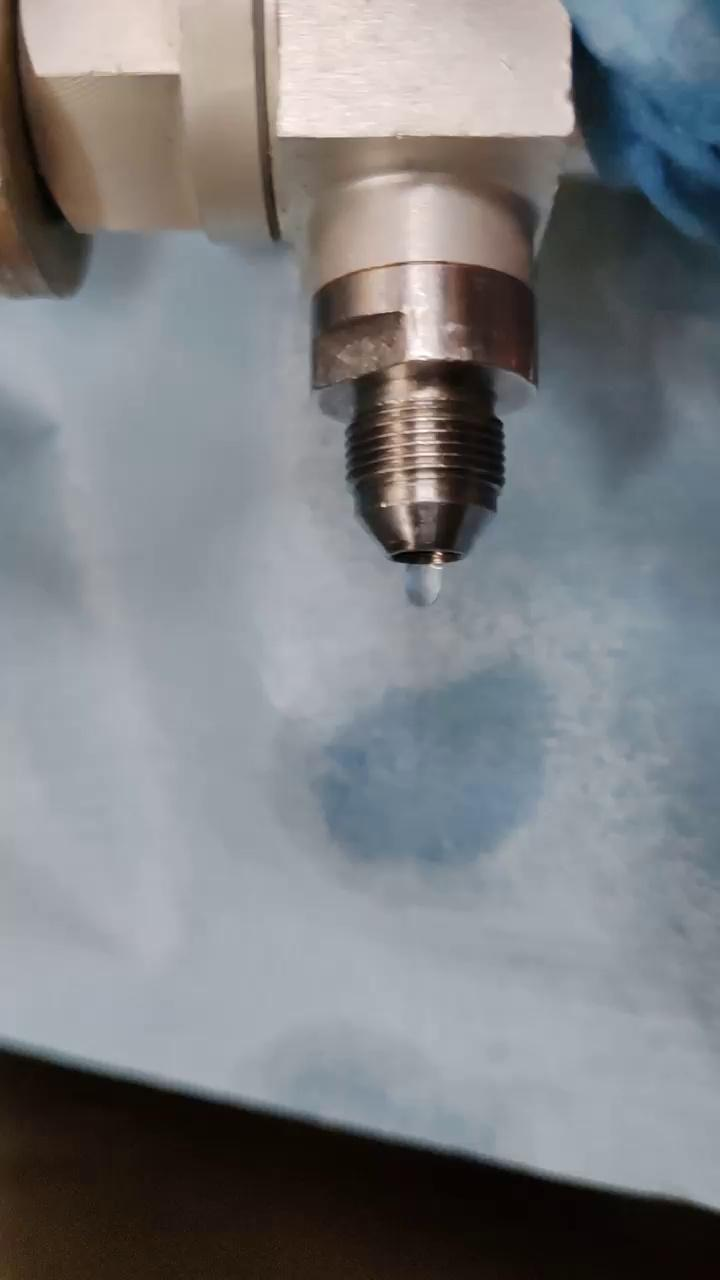water drop: (404, 557, 443, 609)
